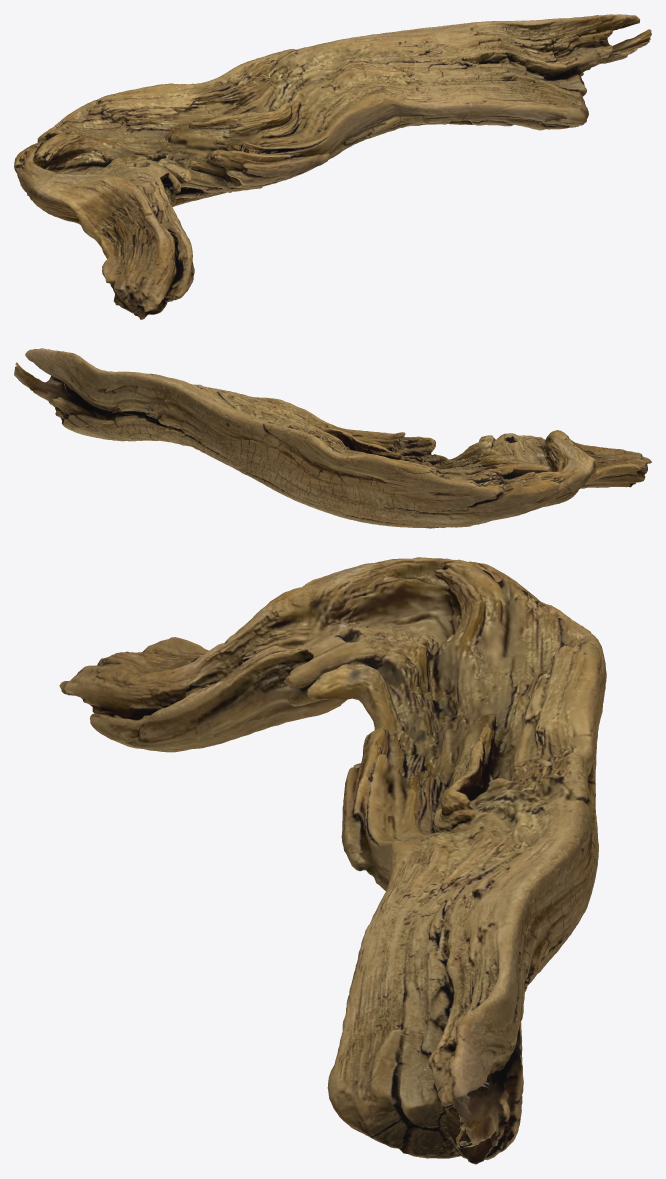
Rendered from driftwood_scan.glb.
3 views of the same model, one above another, from view 1: azimuth 30°, elevation 25°; view 2: azimuth 150°, elevation 25°; view 3: azimuth 270°, elevation 25° (orthographic). The views are drawn at different scales.
Parts seen in each view (by area): view 1: Object_4; view 2: Object_4; view 3: Object_4.
Part boxes in pixels (x1,y1,x2,y2): Object_4: (14, 14, 651, 319); Object_4: (14, 348, 651, 528); Object_4: (59, 557, 606, 1164).
Bounding box in the file's own units: 0.4332 × 0.0683 × 0.1852.
1 material, 1 textured.
